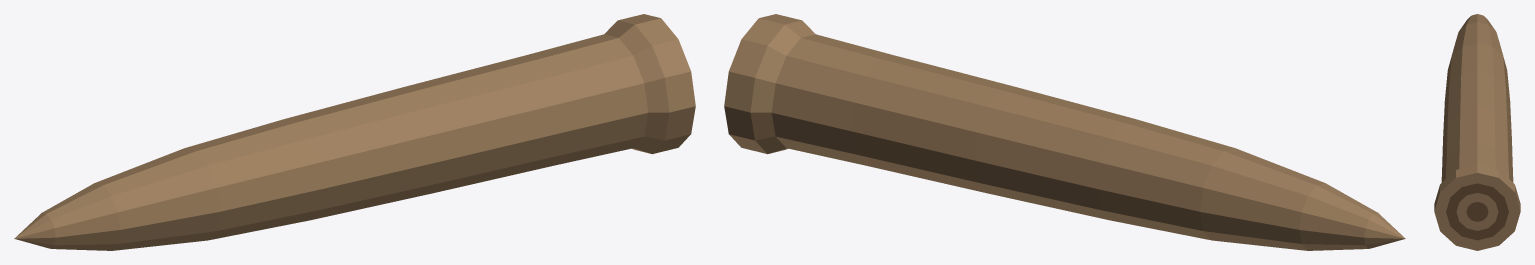
Rendered from fence_peg.glb.
3 views of the same model, side by side, from view 1: azimuth 30°, elevation 25°; view 2: azimuth 150°, elevation 25°; view 3: azimuth 270°, elevation 25° (orthographic). The views are drawn at different scales.
Parts seen in each view (by area): view 1: fence_peg; view 2: fence_peg; view 3: fence_peg.
Boxes of the visible parts, <box> form: fence_peg: <box>14,14,695,250</box>; fence_peg: <box>724,14,1405,250</box>; fence_peg: <box>1434,14,1520,250</box>.
Size of the model in its own units: 0.16 by 0.0296 by 0.0296.
